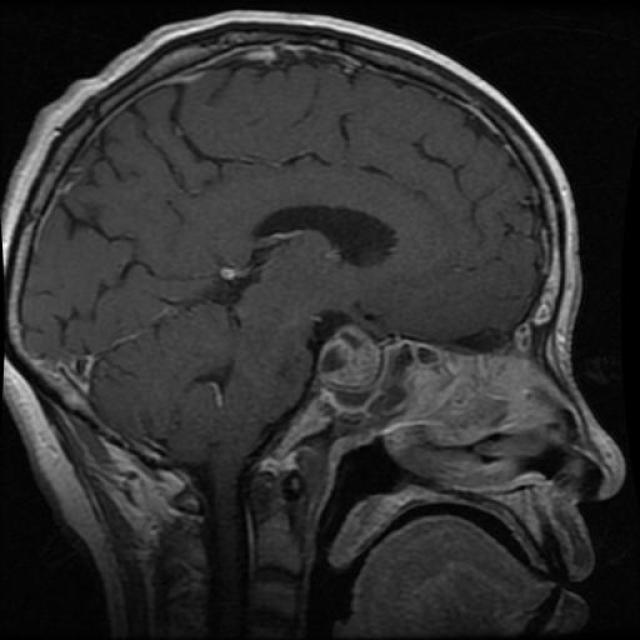pituitary: (302, 318, 385, 402)
